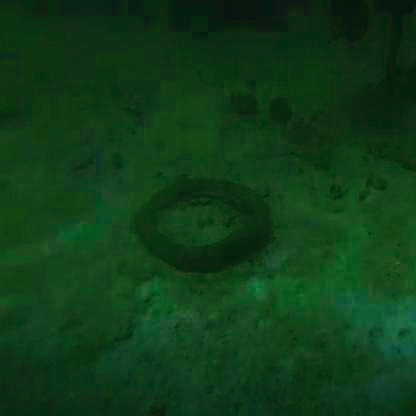tire: (134, 176, 293, 284)
